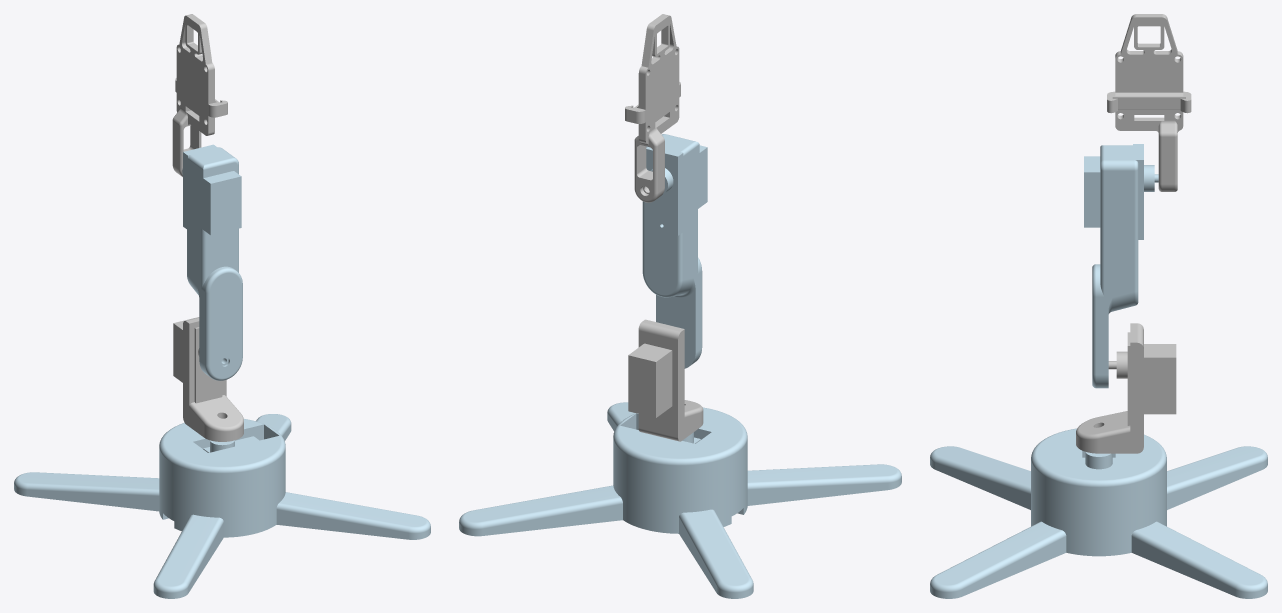
Rendered from MRF_ALL.gltf.
3 views of the same model, side by side, from view 1: azimuth 30°, elevation 25°; view 2: azimuth 150°, elevation 25°; view 3: azimuth 270°, elevation 25° (orthographic). The views are drawn at different scales.
Visible parts, largest first — view 1: base, arm, head, shoulder; view 2: base, arm, shoulder, head; view 3: base, arm, head, shoulder.
Boxes of the visible parts, bbox=[...] form: base: bbox=[14, 414, 430, 598]; arm: bbox=[182, 144, 242, 380]; head: bbox=[172, 14, 227, 176]; shoulder: bbox=[173, 317, 243, 441]; base: bbox=[459, 402, 901, 598]; arm: bbox=[642, 134, 707, 368]; shoulder: bbox=[628, 319, 703, 441]; head: bbox=[625, 14, 680, 202]; base: bbox=[930, 428, 1267, 598]; arm: bbox=[1084, 144, 1158, 388]; head: bbox=[1107, 14, 1191, 191]; shoulder: bbox=[1076, 323, 1176, 453].
Bounding box in the file's own units: 0.1243 × 0.2071 × 0.1243.
